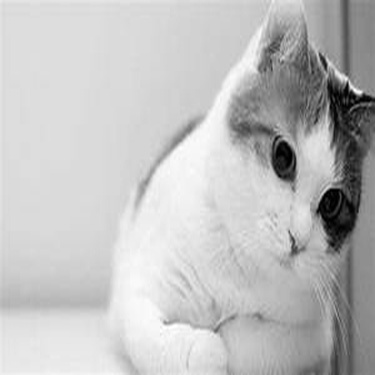cat: (105, 8, 371, 370)
